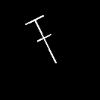double_crochet: (25, 16, 56, 62)
